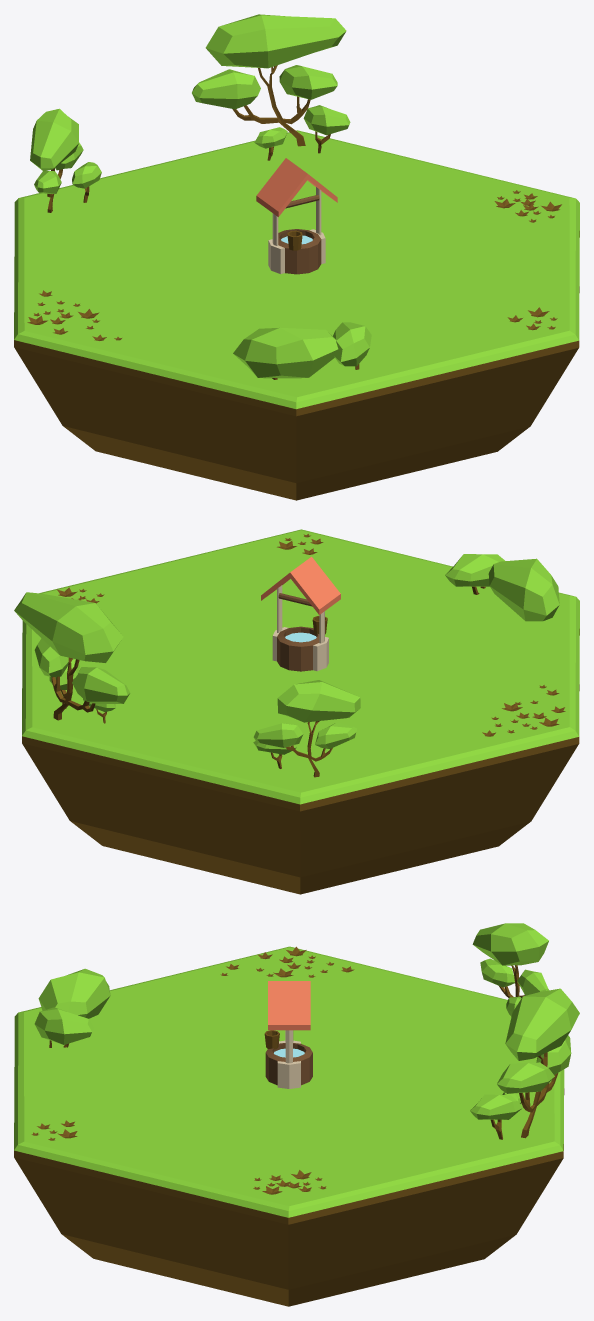
The model's file is Asset_Biome_Plain_01.fbx.
3 views of the same model, one above another, from view 1: azimuth 30°, elevation 25°; view 2: azimuth 150°, elevation 25°; view 3: azimuth 270°, elevation 25° (orthographic). The views are drawn at different scales.
Parts seen in each view (by area): view 1: Asset_Tile_Plain, Asset_Tree_Plain_01, structure_puit, Asset_Tree_Plain_011, Asset_Tree_Plain_02, Asset_Tree_Plain_012, Asset_Tree_Plain_04, Asset_Tree_Plain_03; view 2: Asset_Tile_Plain, Asset_Tree_Plain_01, Asset_Tree_Plain_02, structure_puit, Asset_Tree_Plain_011, Asset_Tree_Plain_012; view 3: Asset_Tile_Plain, Asset_Tree_Plain_01, structure_puit, Asset_Tree_Plain_02, Asset_Tree_Plain_011, Asset_Tree_Plain_012, Asset_Tree_Plain_04.
Part boxes in pixels (<box>): Asset_Tile_Plain: <box>14,130,579,500</box>; Asset_Tree_Plain_01: <box>192,14,346,146</box>; structure_puit: <box>256,158,337,274</box>; Asset_Tree_Plain_011: <box>233,327,338,379</box>; Asset_Tree_Plain_02: <box>30,108,83,212</box>; Asset_Tree_Plain_012: <box>333,322,371,369</box>; Asset_Tree_Plain_04: <box>303,105,350,153</box>; Asset_Tree_Plain_03: <box>72,162,101,202</box>; Asset_Tile_Plain: <box>22,529,579,894</box>; Asset_Tree_Plain_01: <box>14,592,129,720</box>; Asset_Tree_Plain_02: <box>253,680,360,777</box>; structure_puit: <box>261,556,340,671</box>; Asset_Tree_Plain_011: <box>488,558,559,621</box>; Asset_Tree_Plain_012: <box>445,554,505,594</box>; Asset_Tile_Plain: <box>14,946,564,1306</box>; Asset_Tree_Plain_01: <box>497,988,579,1138</box>; structure_puit: <box>265,981,312,1088</box>; Asset_Tree_Plain_02: <box>472,923,548,997</box>; Asset_Tree_Plain_011: <box>38,968,110,1018</box>; Asset_Tree_Plain_012: <box>34,1007,93,1047</box>; Asset_Tree_Plain_04: <box>470,1094,522,1139</box>.
Size of the model in its own units: 436 by 206 by 389.
